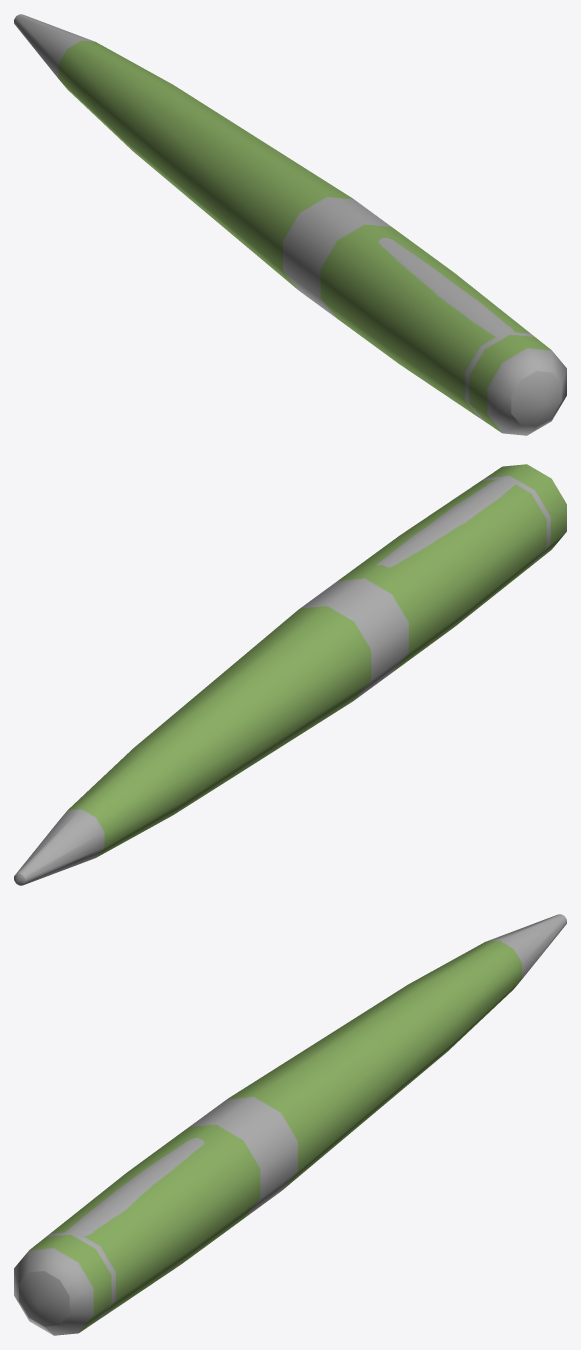
The model's file is SM_Pen.fbx.
3 views of the same model, one above another, from view 1: azimuth 30°, elevation 25°; view 2: azimuth 150°, elevation 25°; view 3: azimuth 330°, elevation 25° (orthographic).
Parts seen in each view (by area): view 1: SM_Pen_LOD0; view 2: SM_Pen_LOD0; view 3: SM_Pen_LOD0.
Part boxes in pixels (box(x1,y1,x2,y2)): SM_Pen_LOD0: box(14, 14, 566, 435); SM_Pen_LOD0: box(14, 464, 566, 885); SM_Pen_LOD0: box(14, 914, 566, 1335).
Bounding box in the file's own units: 2.38 × 24.62 × 2.5.
